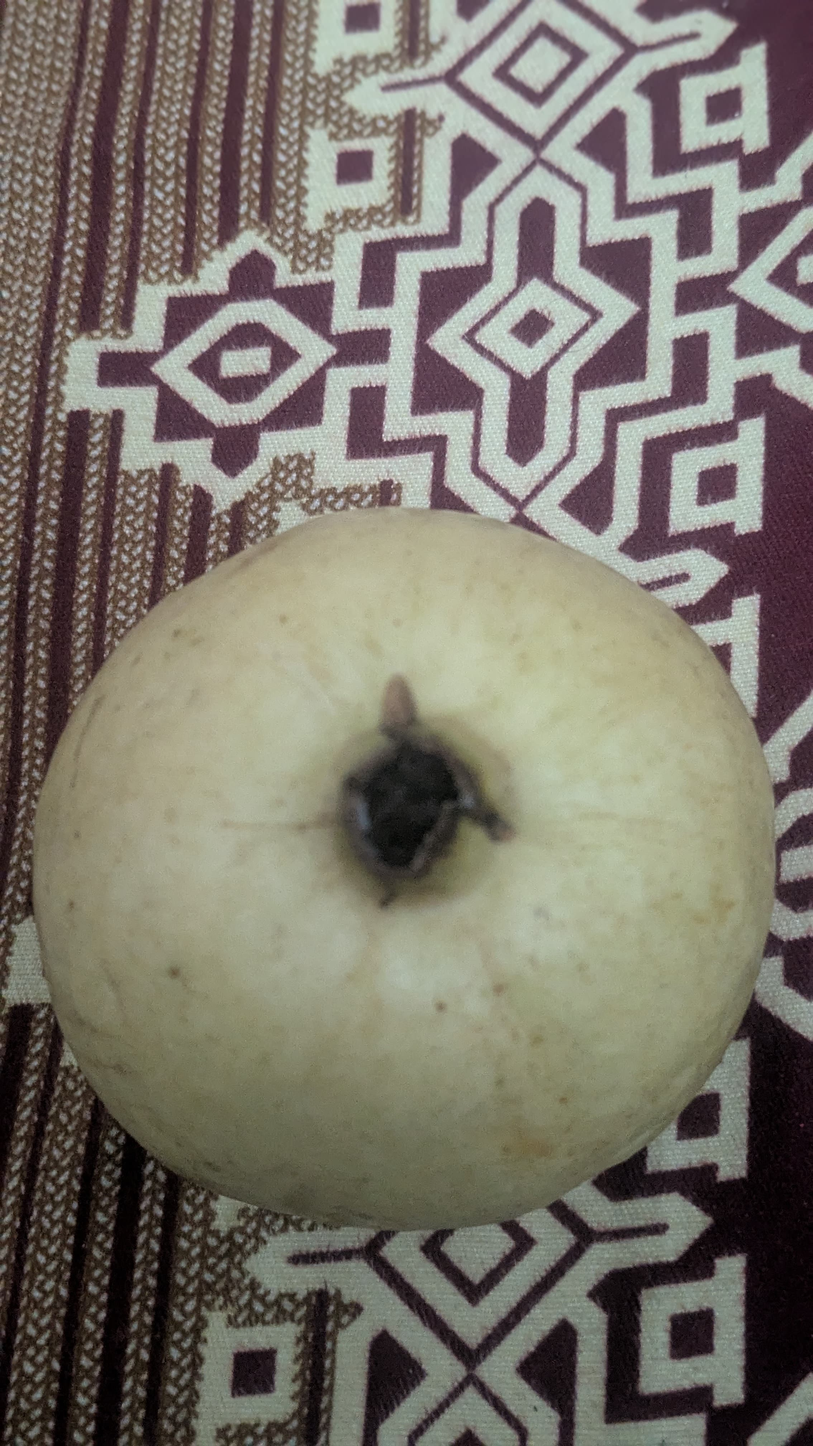guava: (172, 45, 723, 1332)
